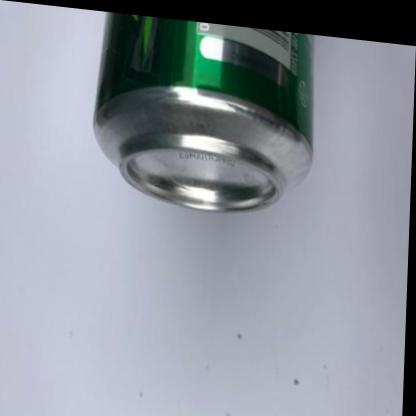trash: (94, 14, 311, 210)
